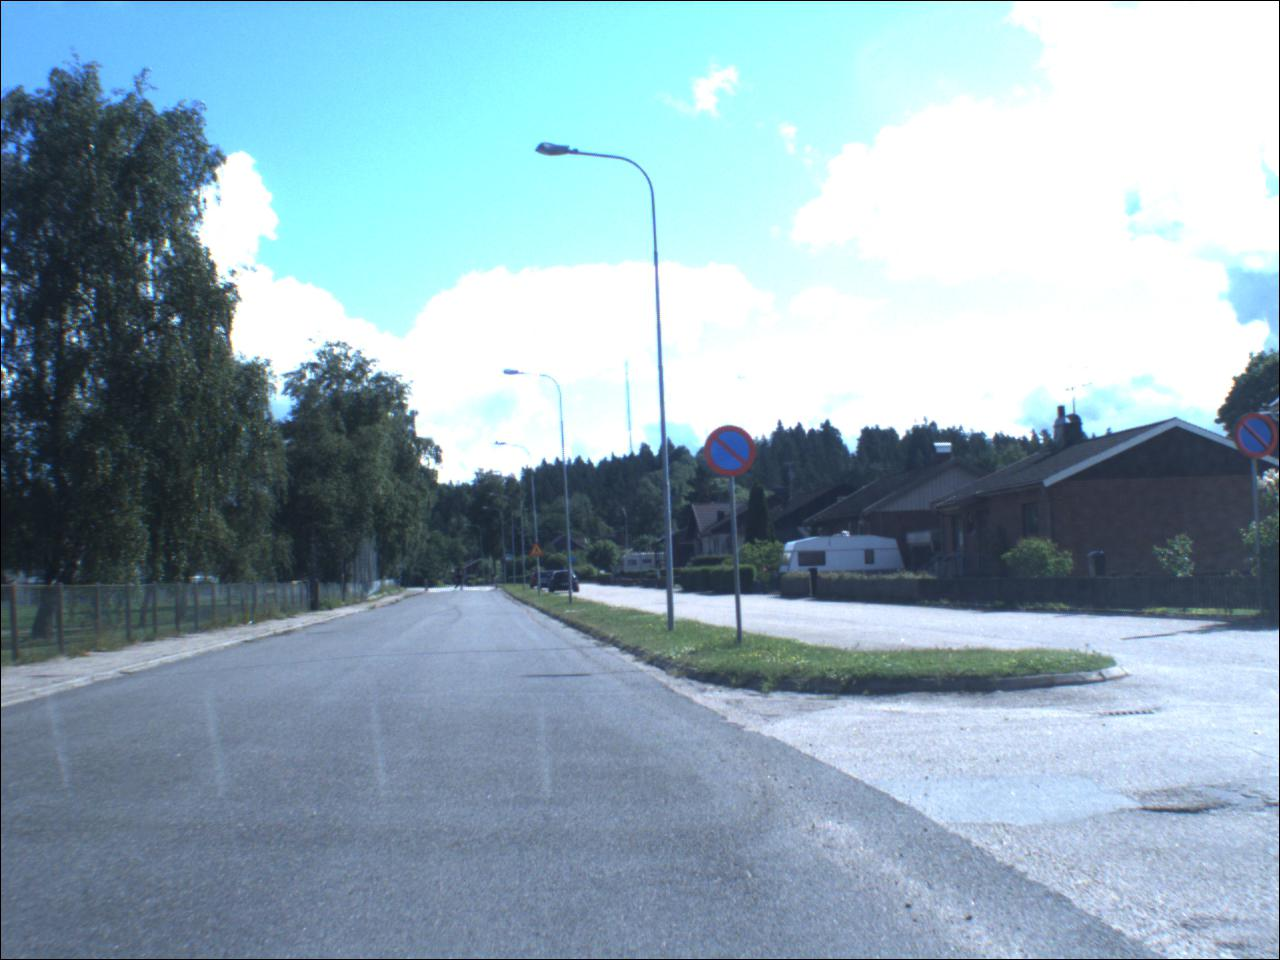NO_PARKING: (704, 422, 760, 484), (1228, 403, 1278, 462)
PEDESTRIAN_CROSSING: (506, 555, 516, 565)
WARNING_PEDESTRIANS: (531, 545, 547, 559)
